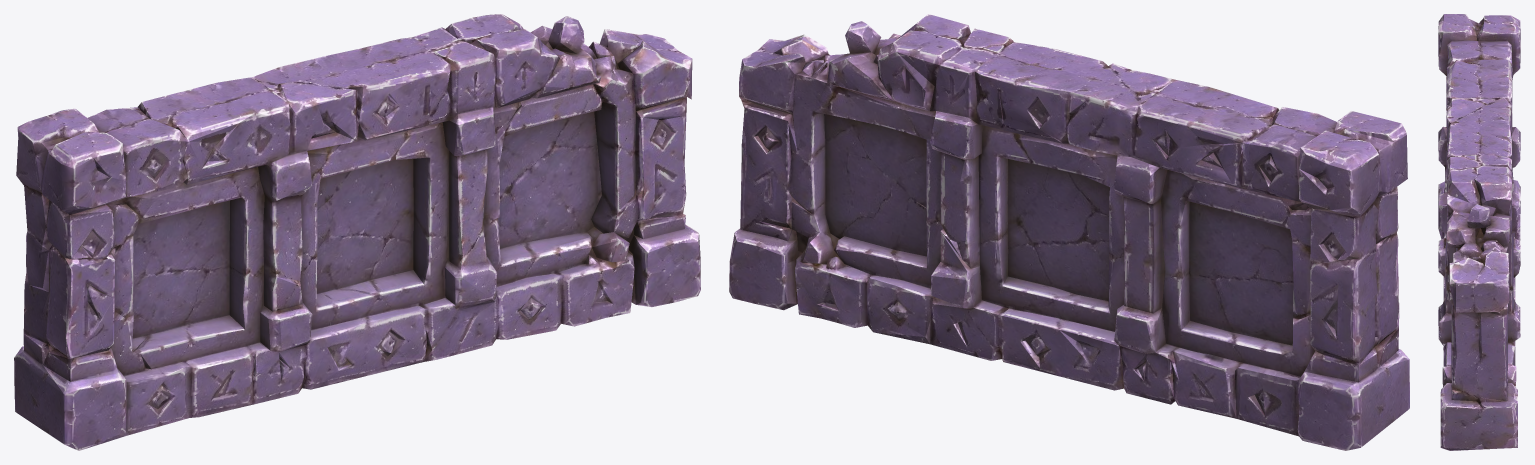
Rendered from rune_mural.glb.
3 renders of one model, left to right at view 1: azimuth 30°, elevation 25°; view 2: azimuth 150°, elevation 25°; view 3: azimuth 270°, elevation 25°, orthographic. The views are drawn at different scales.
Parts seen in each view (by area): view 1: body; view 2: body; view 3: body.
Part boxes in pixels (x1,y1,x2,y2): body: (14,14,700,450); body: (729,14,1409,450); body: (1438,14,1520,450).
Bounding box in the file's own units: 3.62 × 1.6 × 0.5567.
1 material, 1 textured.
